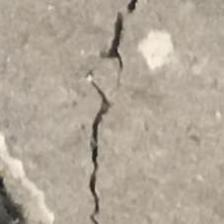Crack: (60, 0, 160, 224)
